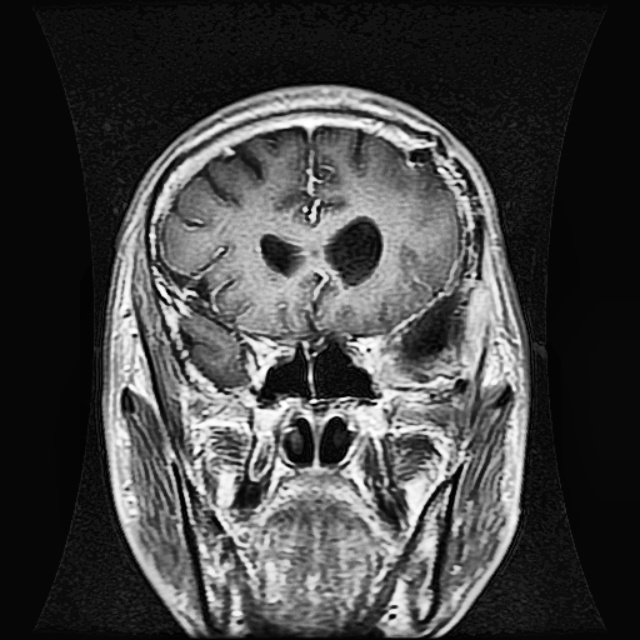Meningioma: (382, 273, 474, 385)
